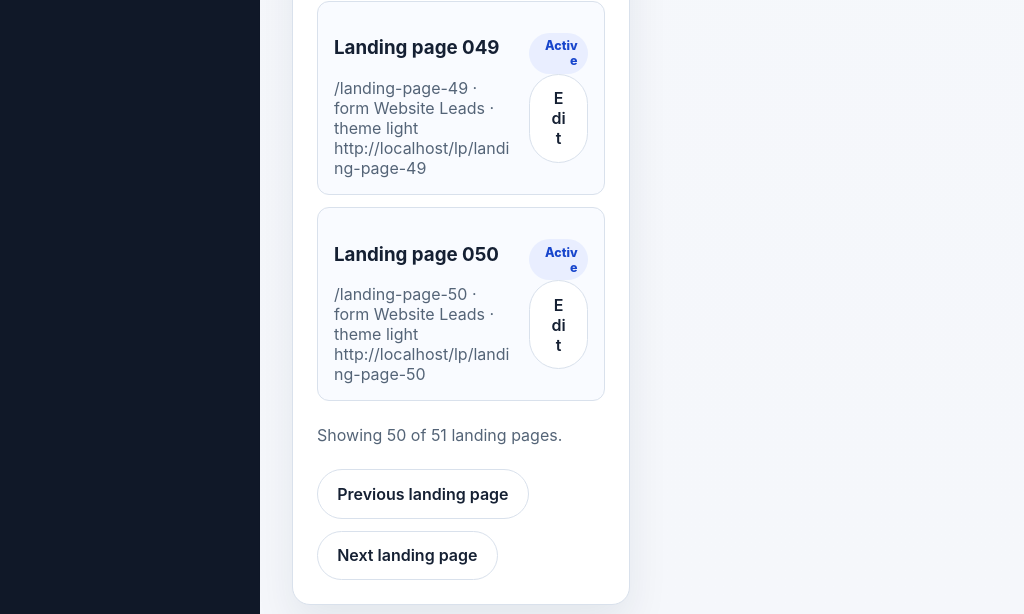
settings landing pages route › loads row 51 through exact accessible continuation
This screenshot has width=1024, height=614.
(page scrolled)
Expected: the text "Showing 50 of 51 landing pages." is shown, [317,426,605,446]
Expected: the heading "Landing page 051" is not shown
What coordinates should you click on to do the following:
click the button "Next landing page"
I would click on:
 (407, 555)
Its box is [317,531,498,580].
(page scrolled)
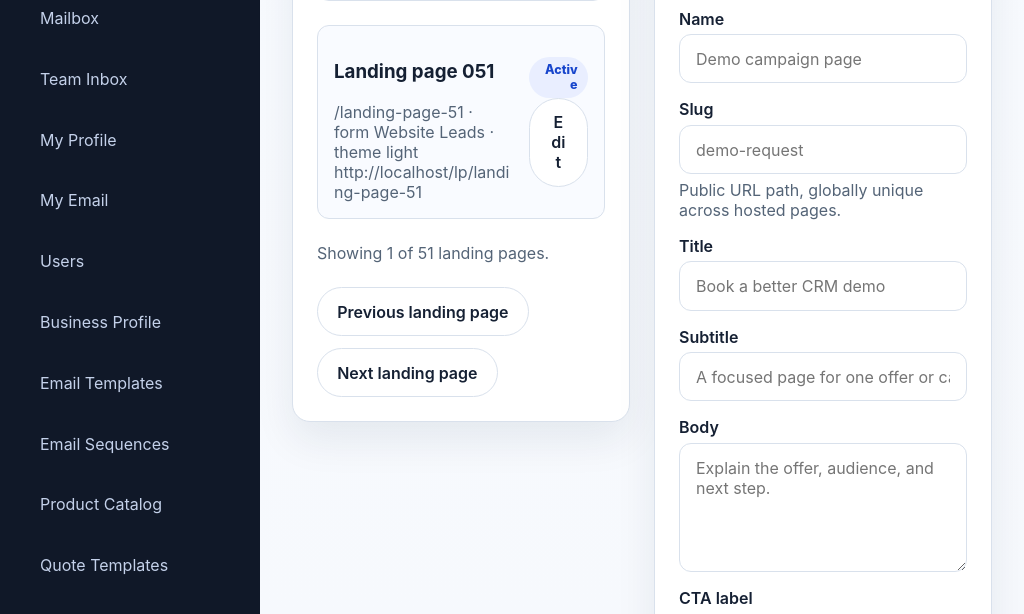
Now the heading "Landing page 051" is shown, box [334,60,513,83]
Now the text "Showing 1 of 51 landing pages." is shown, box [317,243,549,263]
